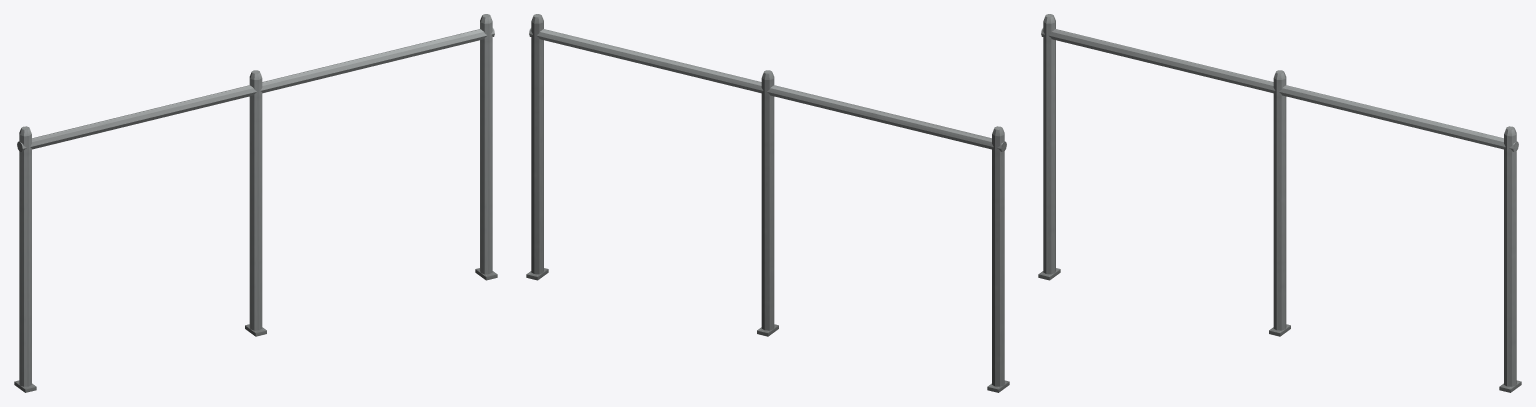
File: pool_guardrail_straight.glb
3 renders of one model, left to right at view 1: azimuth 30°, elevation 25°; view 2: azimuth 150°, elevation 25°; view 3: azimuth 330°, elevation 25°, orthographic.
Parts seen in each view (by area): view 1: core_pool_guardrail_straight; view 2: core_pool_guardrail_straight; view 3: core_pool_guardrail_straight.
Boxes of the visible parts, x1,y1,x2,y2 form: core_pool_guardrail_straight: (14,14,497,392); core_pool_guardrail_straight: (526,14,1009,392); core_pool_guardrail_straight: (1038,14,1521,392).
Bounding box in the file's own units: 2 × 1.05 × 0.08.
Materials: 1 (1 with a texture image).
